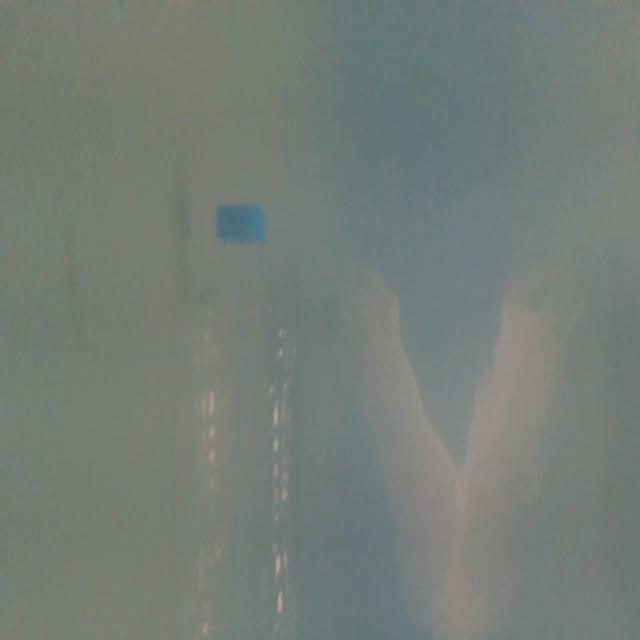plastic bags: (350, 276, 526, 634)
plastic bottle: (184, 194, 302, 640)
